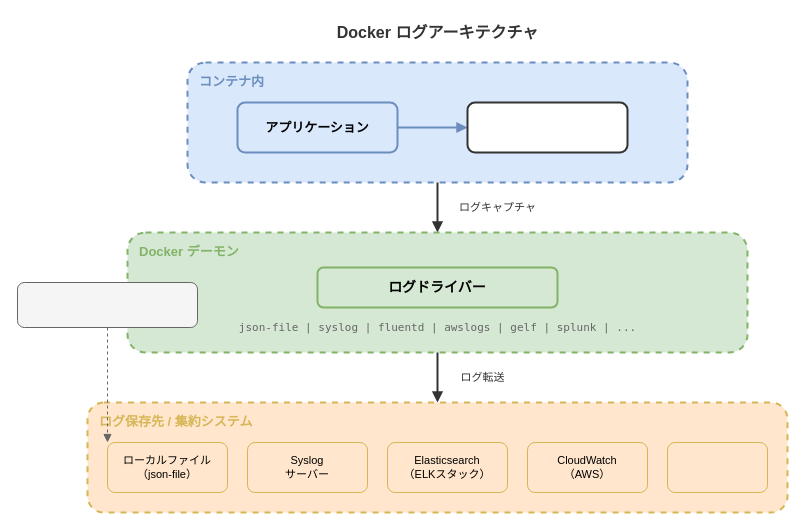
Some shapes in this 806 by 530 pixel diagram are drawn without their labels. Each missing label, with the box of its shape:
docker logs コマンド （json-file/journald のみ対応）: (16, 282, 198, 328)
Fluentd Splunk 等: (666, 442, 768, 492)
stdout / stderr: (466, 101, 628, 153)
